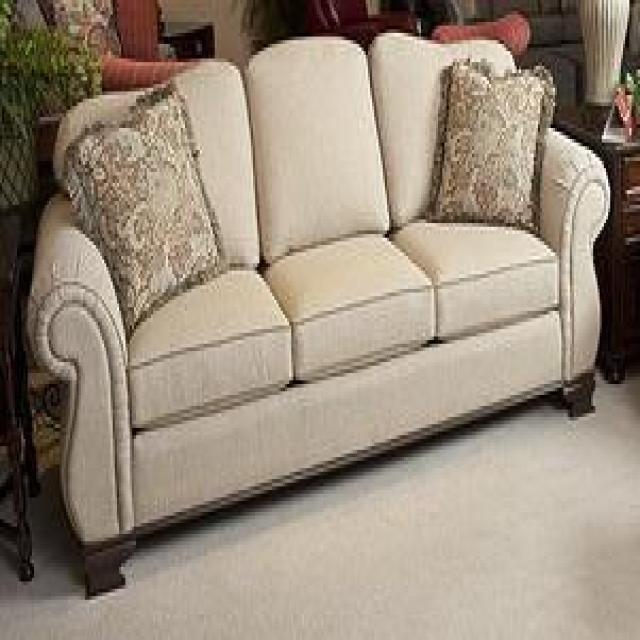sofa: (26, 29, 612, 596)
